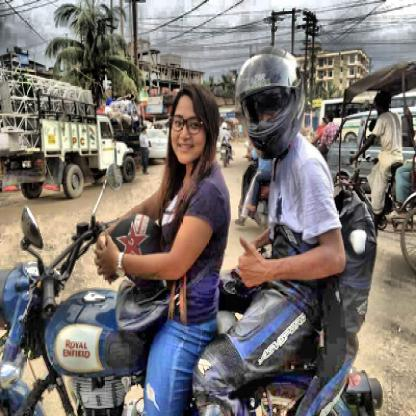not_wear: (170, 83, 218, 170)
wear: (239, 49, 306, 163)
